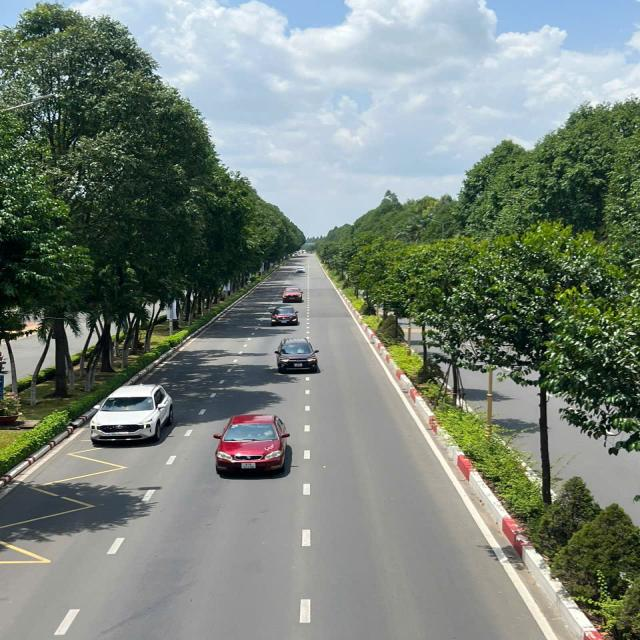car: (93, 382, 173, 448), (218, 412, 287, 475), (278, 337, 322, 380), (273, 302, 299, 324), (283, 284, 305, 301), (295, 266, 306, 275)
